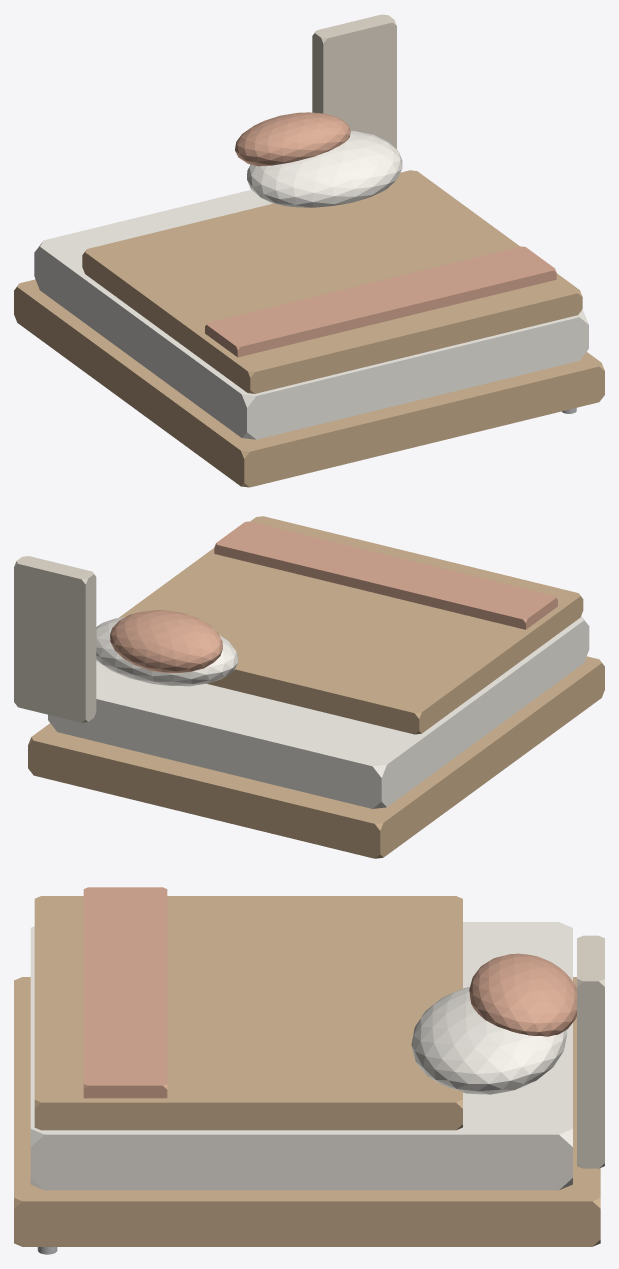
Rendered from king_bed.glb.
3 renders of one model, top to bottom at view 1: azimuth 30°, elevation 25°; view 2: azimuth 150°, elevation 25°; view 3: azimuth 270°, elevation 25°, orthographic. The views are drawn at different scales.
Parts seen in each view (by area): view 1: FABRIC_SAND_duvet, FABRIC_LIGHT_mattress, WOOD_DARK_frame, FABRIC_ACCENT_throw, FABRIC_MAIN_headboard_panel, FABRIC_LIGHT_pillow, FABRIC_ACCENT2_cushion; view 2: FABRIC_SAND_duvet, FABRIC_LIGHT_mattress, WOOD_DARK_frame, FABRIC_ACCENT_throw, FABRIC_MAIN_headboard_panel, FABRIC_ACCENT2_cushion, FABRIC_LIGHT_pillow; view 3: FABRIC_SAND_duvet, FABRIC_LIGHT_mattress, WOOD_DARK_frame, FABRIC_ACCENT_throw, FABRIC_LIGHT_pillow, FABRIC_ACCENT2_cushion, FABRIC_MAIN_headboard_panel.
Part boxes in pixels (x1,y1,x2,y2): FABRIC_SAND_duvet: (82, 170, 582, 393); FABRIC_LIGHT_mattress: (34, 189, 588, 439); WOOD_DARK_frame: (14, 279, 604, 487); FABRIC_ACCENT_throw: (205, 246, 556, 357); FABRIC_MAIN_headboard_panel: (312, 14, 396, 149); FABRIC_LIGHT_pillow: (247, 130, 402, 207); FABRIC_ACCENT2_cushion: (235, 112, 350, 166); FABRIC_SAND_duvet: (119, 516, 583, 734); FABRIC_LIGHT_mattress: (48, 616, 589, 808); WOOD_DARK_frame: (28, 656, 604, 858); FABRIC_ACCENT_throw: (214, 521, 557, 629); FABRIC_MAIN_headboard_panel: (14, 556, 96, 722); FABRIC_ACCENT2_cushion: (110, 610, 222, 673); FABRIC_LIGHT_pillow: (96, 617, 238, 686); FABRIC_SAND_duvet: (34, 896, 462, 1130); FABRIC_LIGHT_mattress: (30, 922, 572, 1190); WOOD_DARK_frame: (14, 977, 600, 1246); FABRIC_ACCENT_throw: (83, 887, 167, 1098); FABRIC_LIGHT_pillow: (411, 987, 567, 1094); FABRIC_ACCENT2_cushion: (469, 953, 576, 1036); FABRIC_MAIN_headboard_panel: (577, 935, 604, 1168).
Size of the model in its own units: 1.97 by 1.15 by 2.12.
